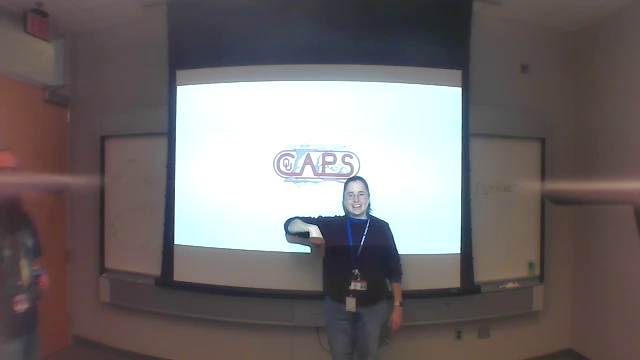down: (305, 221, 332, 263)
